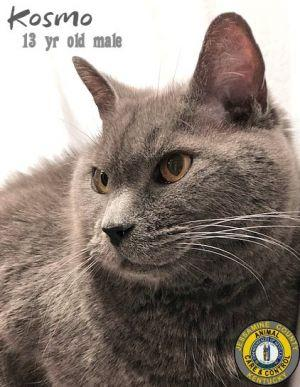rblue: (51, 4, 300, 313)
